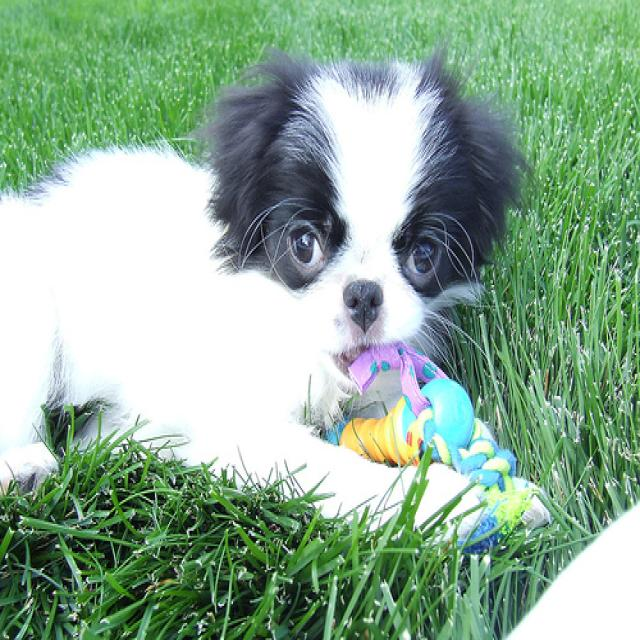dog-japanese_chin: (1, 48, 547, 524)
